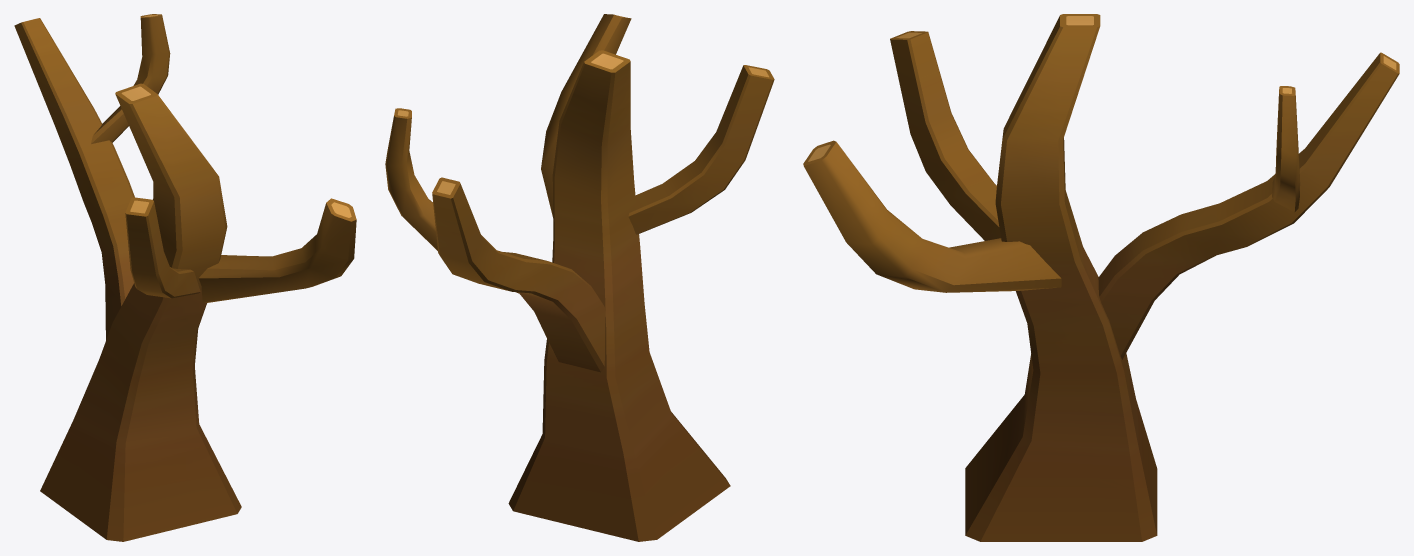
Rendered from Tree_B_8.fbx.
The picture shows the model from 3 angles, left to right: view 1: azimuth 30°, elevation 25°; view 2: azimuth 150°, elevation 25°; view 3: azimuth 270°, elevation 25°; orthographic projection. The views are drawn at different scales.
Parts seen in each view (by area): view 1: Tree_B_8; view 2: Tree_B_8; view 3: Tree_B_8.
Part boxes in pixels (x1,y1,x2,y2): Tree_B_8: [14, 14, 356, 541]; Tree_B_8: [385, 14, 774, 541]; Tree_B_8: [803, 14, 1399, 541].
Bounding box in the file's own units: 187 × 345 × 385.
